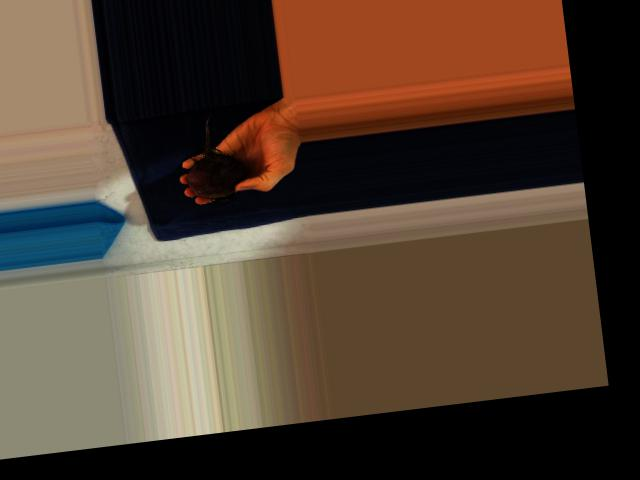beet: (179, 110, 248, 208)
